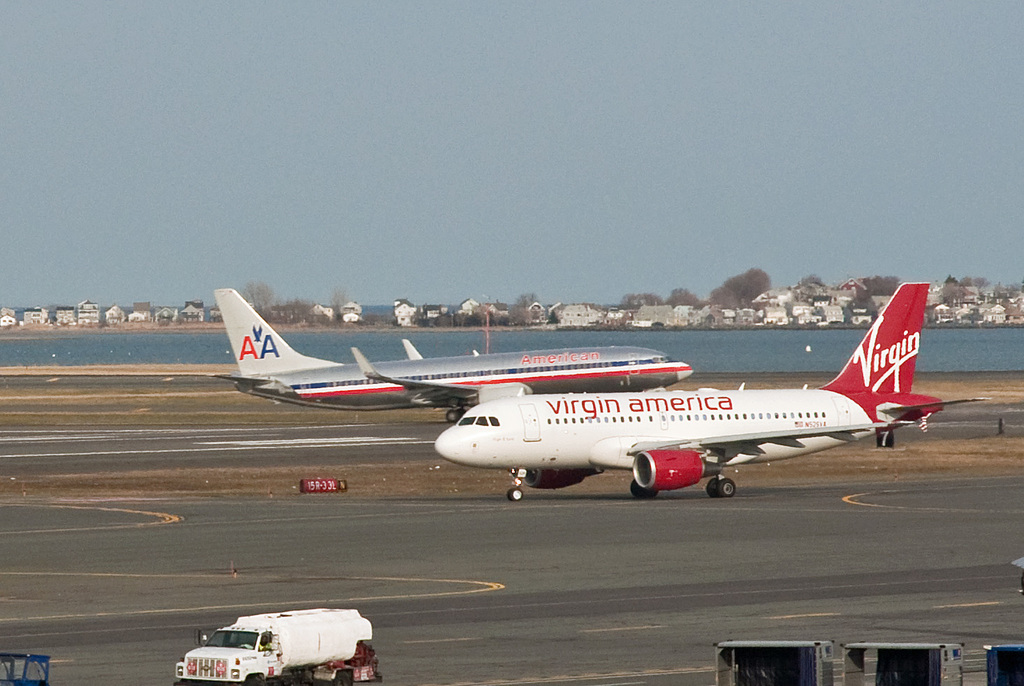truck: (157, 591, 400, 686)
